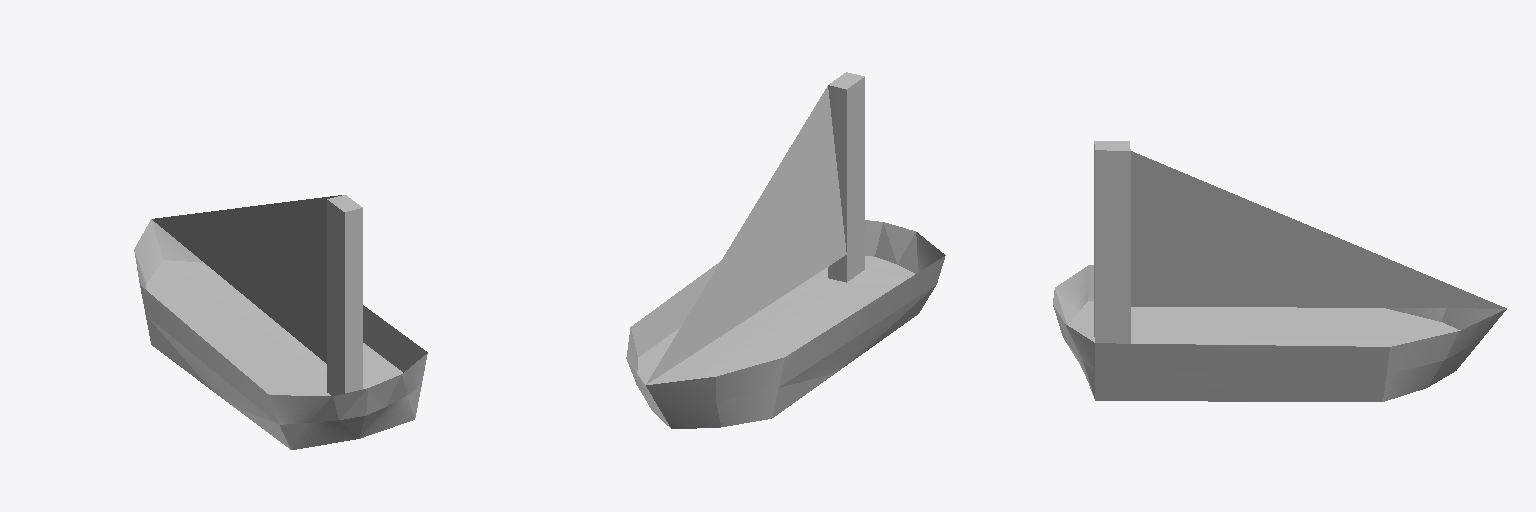
The model's file is smallboatmorepoints.obj.
The picture shows the model from 3 angles: view 1: azimuth 30°, elevation 25°; view 2: azimuth 150°, elevation 25°; view 3: azimuth 270°, elevation 25°; orthographic projection.
Visible parts, largest first — view 1: Cube.001_Cube.002; view 2: Cube.001_Cube.002; view 3: Cube.001_Cube.002.
Boxes of the visible parts, <box> form: Cube.001_Cube.002: <box>134,195,427,449</box>; Cube.001_Cube.002: <box>626,72,945,428</box>; Cube.001_Cube.002: <box>1053,141,1506,401</box>.
Size of the model in its own units: 0.2052 by 0.2684 by 0.491.